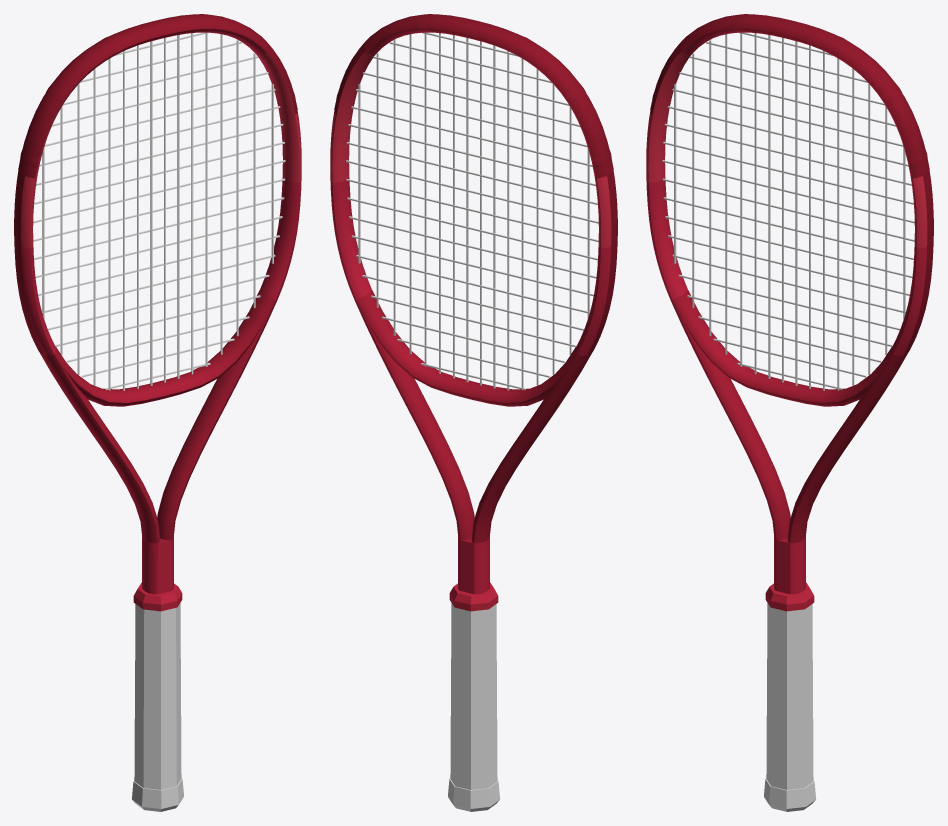
File: yonex-vcore-98-plus-2026.glb
3 renders of one model, left to right at view 1: azimuth 30°, elevation 25°; view 2: azimuth 150°, elevation 25°; view 3: azimuth 330°, elevation 25°, orthographic.
Visible parts, largest first — view 1: frame, strings_mains, strings_crosses, grip, bumper, grommets, butt_cap, collar; view 2: frame, strings_mains, strings_crosses, grip, bumper, grommets, butt_cap, collar; view 3: frame, strings_mains, strings_crosses, grip, bumper, grommets, butt_cap, collar.
Part boxes in pixels (x1,y1,x2,y2): frame: (15, 29, 301, 594); strings_mains: (42, 32, 273, 390); strings_crosses: (33, 32, 285, 389); grip: (134, 603, 181, 789); bumper: (18, 14, 297, 178); grommets: (14, 171, 44, 354); butt_cap: (132, 778, 183, 811); collar: (133, 582, 182, 611); frame: (330, 29, 616, 594); strings_mains: (358, 33, 589, 390); strings_crosses: (346, 32, 598, 390); grip: (450, 603, 497, 789); bumper: (334, 14, 613, 178); grommets: (587, 171, 617, 354); butt_cap: (448, 778, 499, 811); collar: (449, 582, 498, 611); frame: (646, 29, 932, 594); strings_mains: (674, 32, 905, 390); strings_crosses: (662, 32, 914, 389); grip: (766, 603, 813, 789); bumper: (650, 14, 929, 178); grommets: (903, 171, 933, 354); butt_cap: (764, 778, 815, 811); collar: (765, 582, 814, 611).
Bounding box in the file's own units: 0.2652 × 0.6988 × 0.0396.
